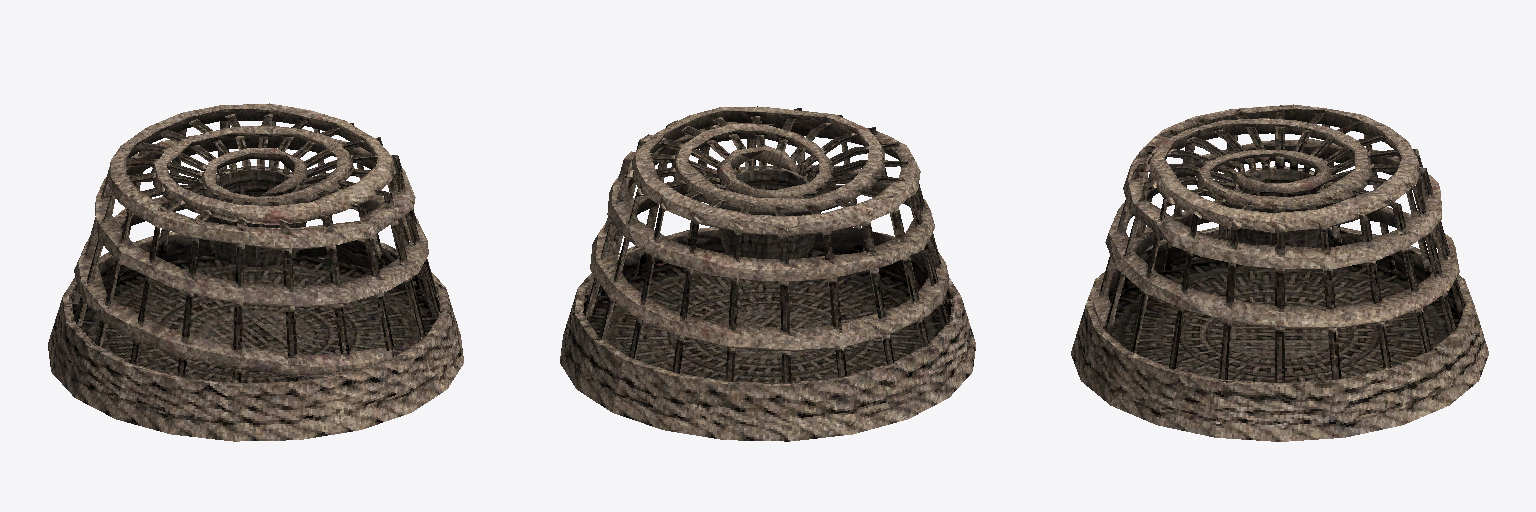
The picture shows the model from 3 angles: view 1: azimuth 30°, elevation 25°; view 2: azimuth 150°, elevation 25°; view 3: azimuth 270°, elevation 25°; orthographic projection.
Parts seen in each view (by area): view 1: crab_pot; view 2: crab_pot; view 3: crab_pot.
Boxes of the visible parts, x1,y1,x2,y2 form: crab_pot: [48, 103, 463, 441]; crab_pot: [560, 106, 975, 441]; crab_pot: [1071, 104, 1488, 441].
Bounding box in the file's own units: 41.21 × 21.19 × 41.21.
1 materials, 1 textured.